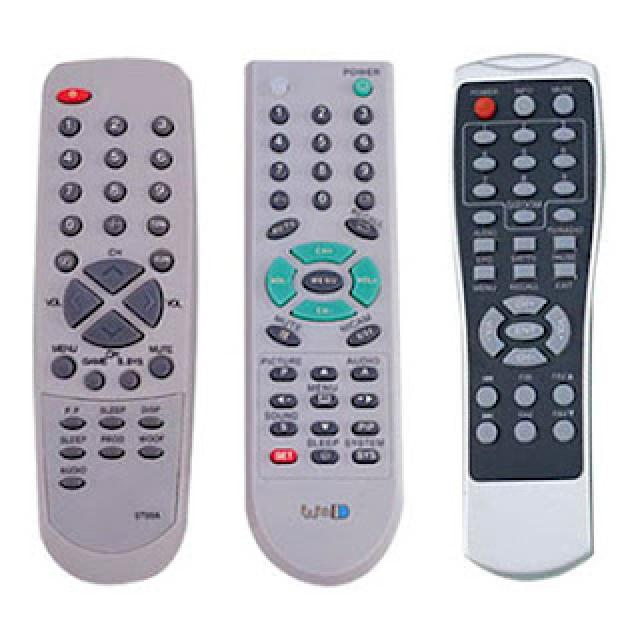remote: (38, 64, 200, 587), (242, 65, 402, 589), (455, 51, 600, 582)
